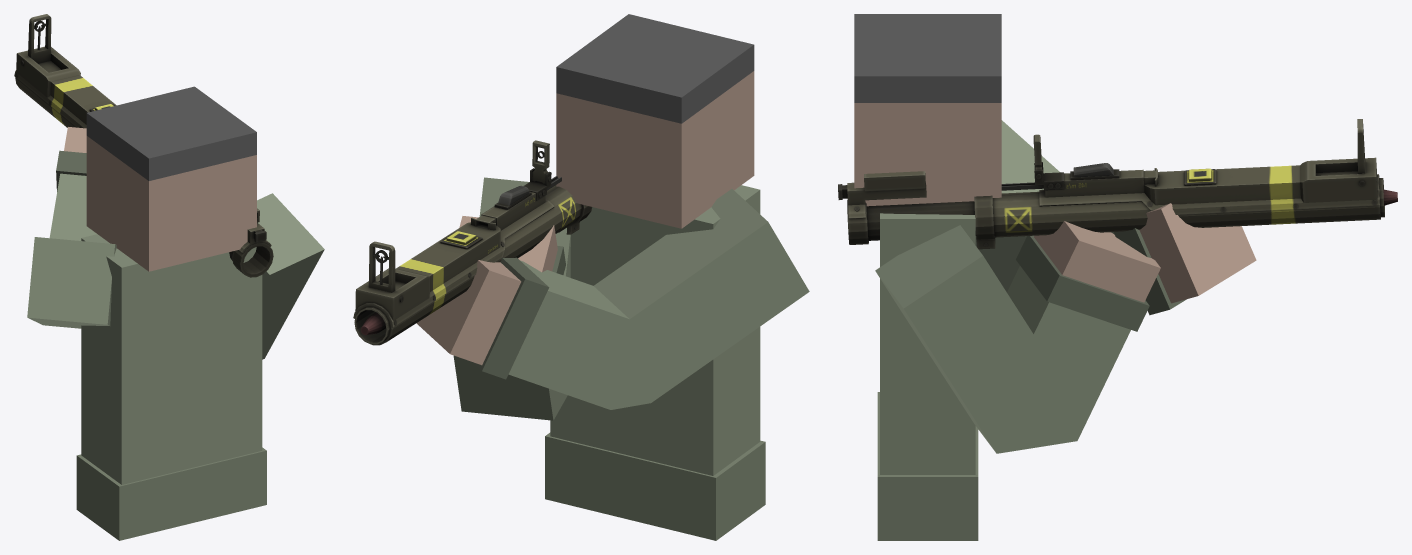
File: Rocket Launcher.gltf
3 views of the same model, side by side, from view 1: azimuth 30°, elevation 25°; view 2: azimuth 150°, elevation 25°; view 3: azimuth 270°, elevation 25° (orthographic). The views are drawn at different scales.
Size of the model in its own units: 5.21 by 6.8 by 7.61.
Materials: 2 (1 with a texture image).
